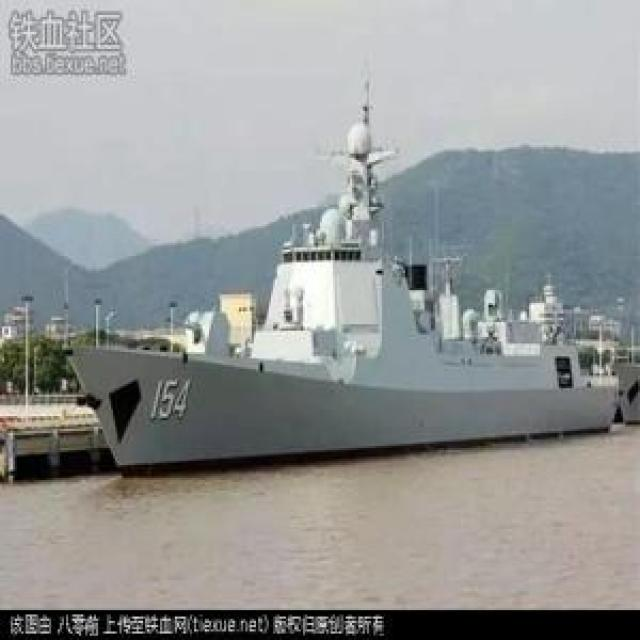navalvessels: (63, 114, 616, 466)
